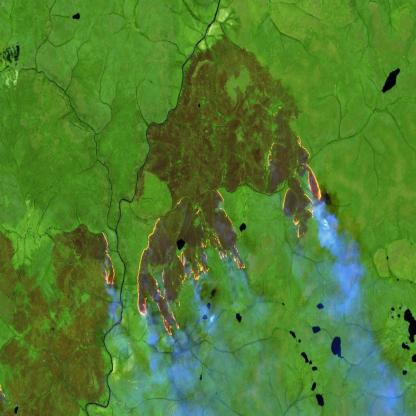fire: (133, 121, 332, 347), (91, 226, 122, 298)
